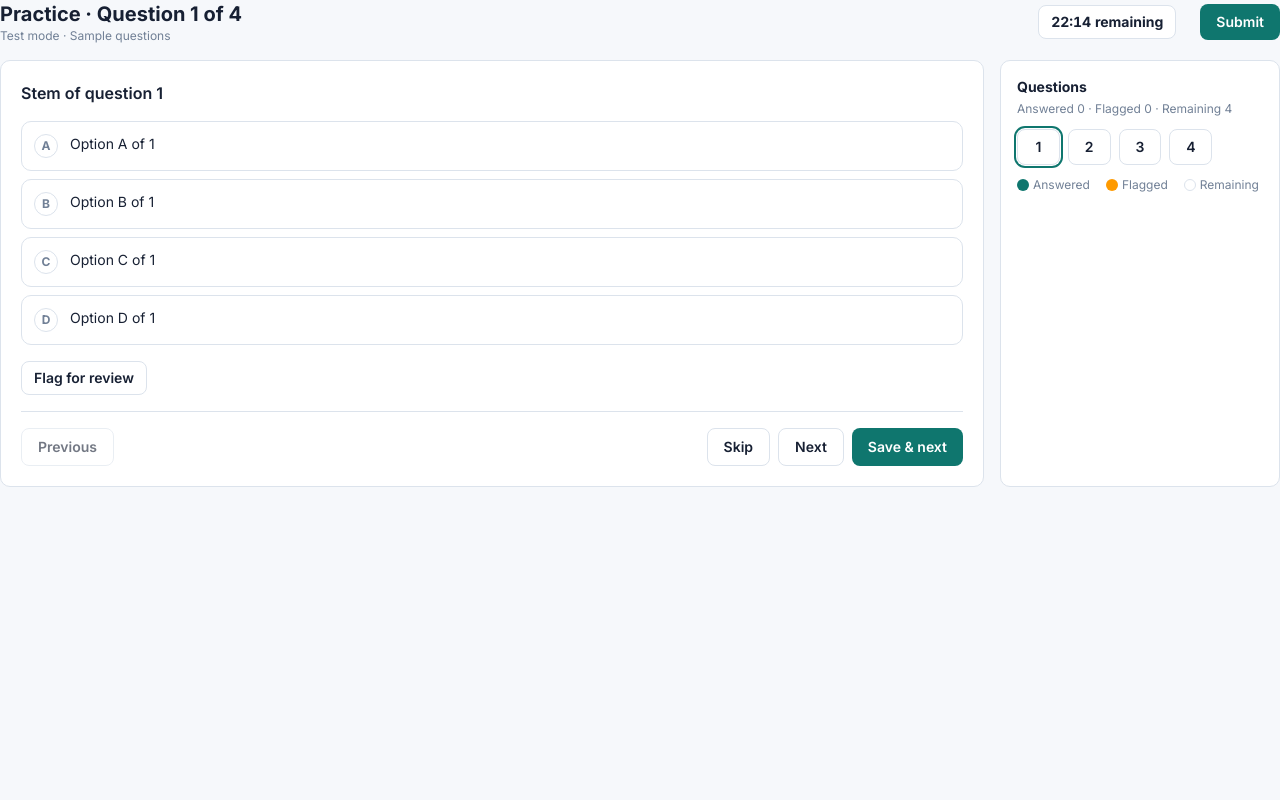
Test: Workspace submit › does not submit while saves keep failing, and says why
Press a
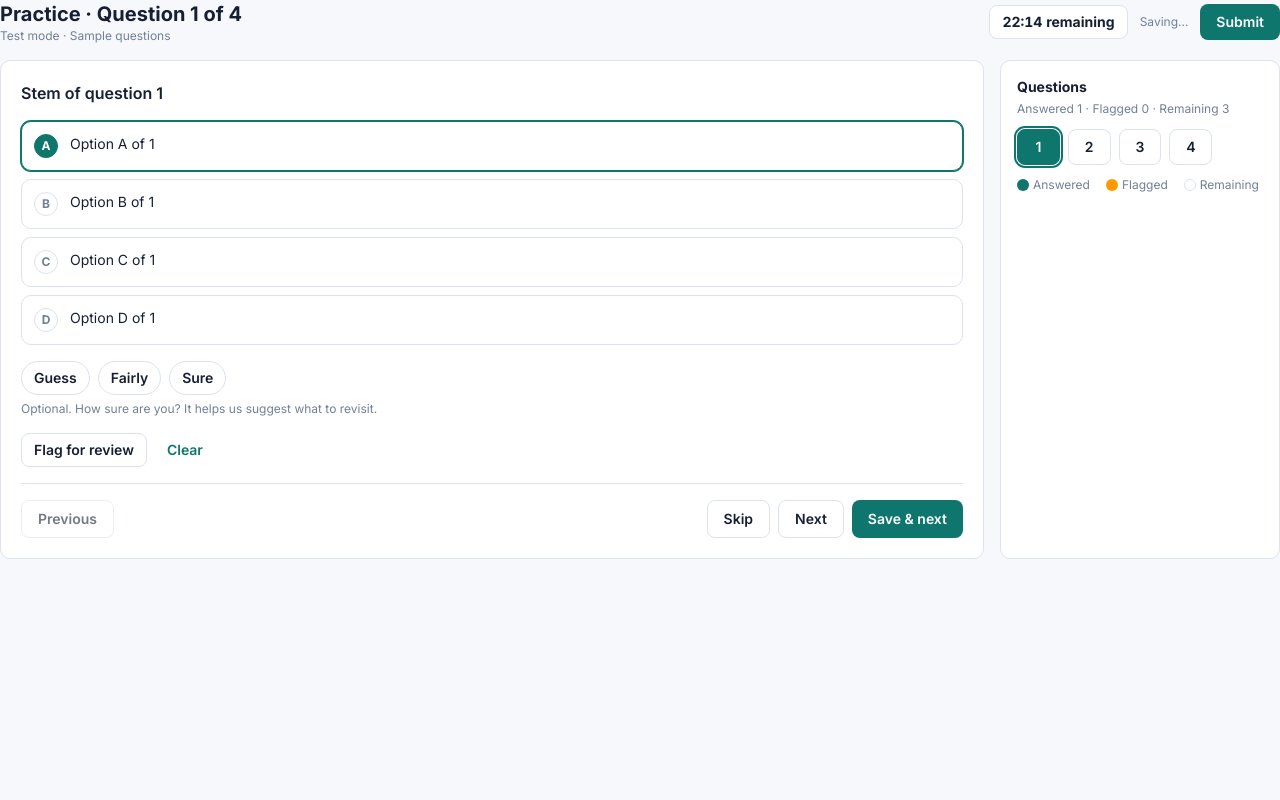
Click the button "Submit": (1240, 22) [1200, 4, 1279, 40]
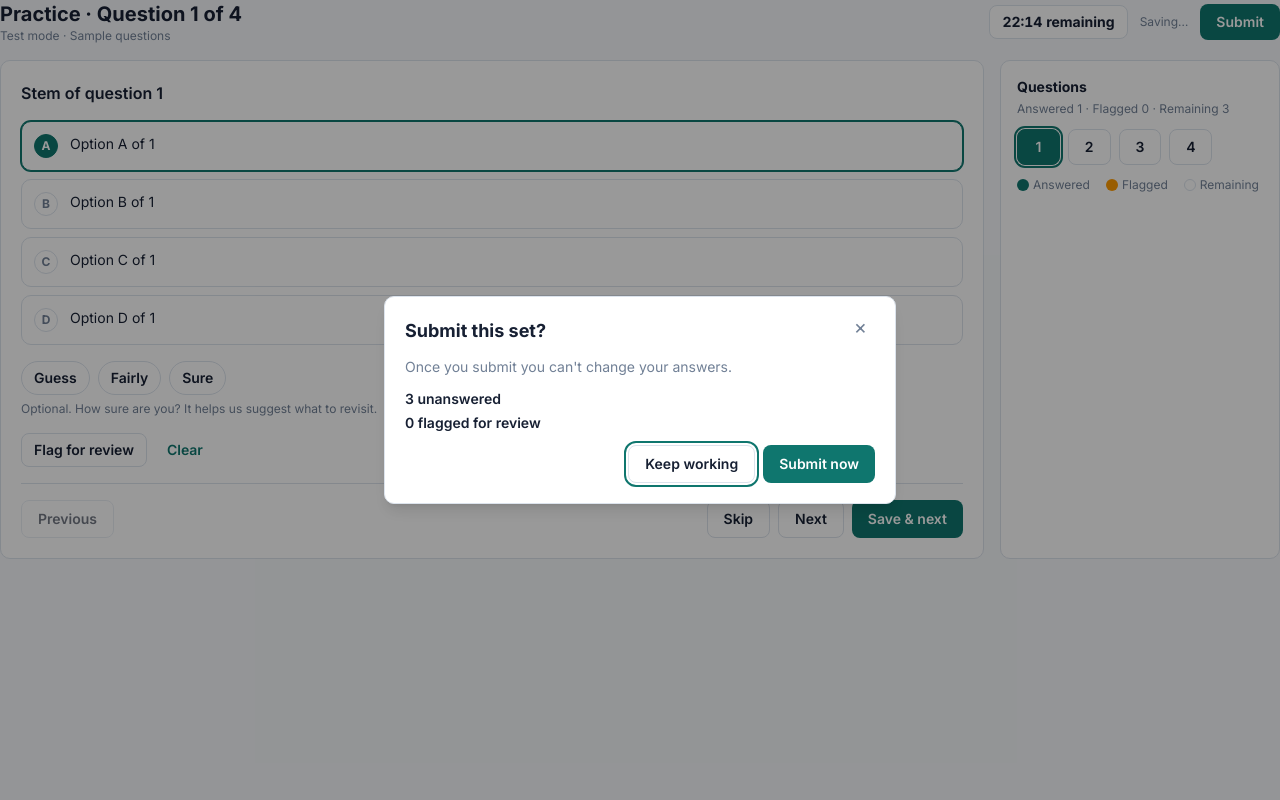
Click the button "Submit now": (819, 464) [763, 445, 875, 483]
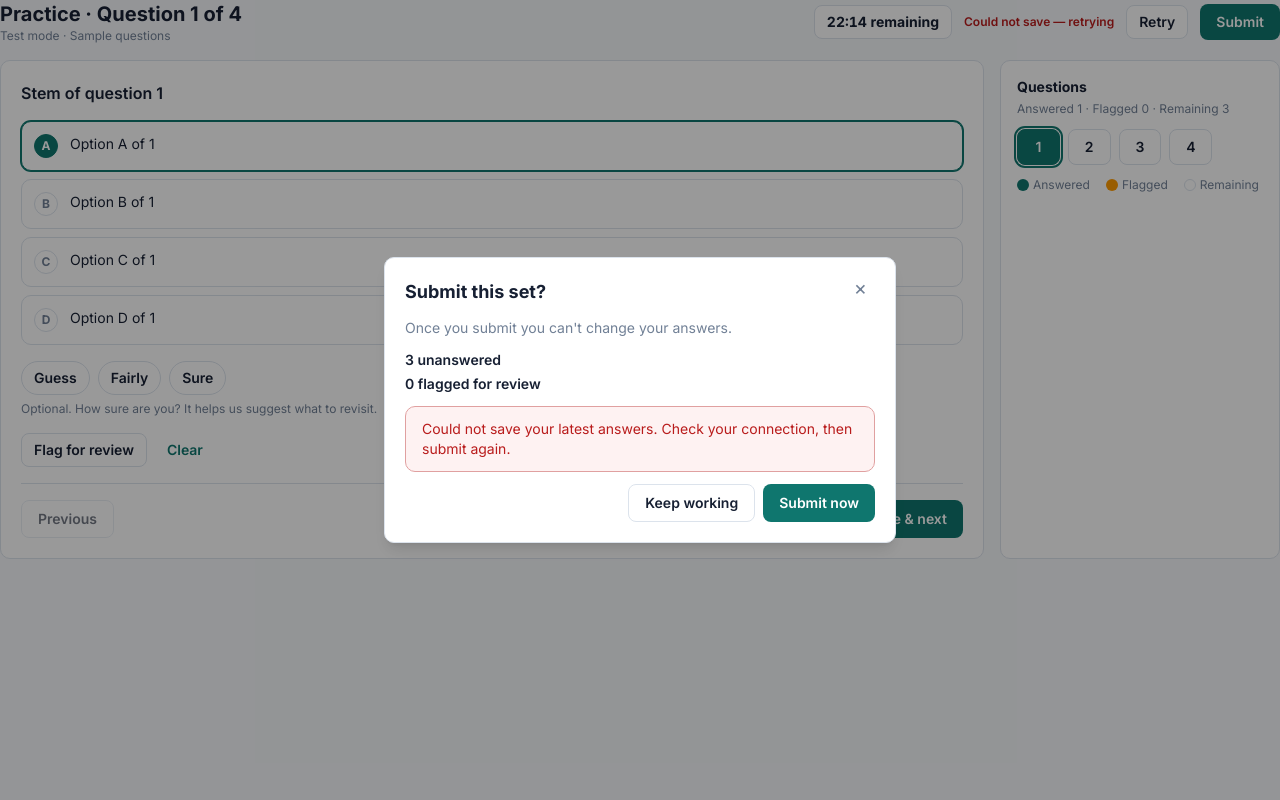
Check: the button "Submit now" is enabled, box [763, 484, 875, 522]
Check: the message shows "Could not save", box [422, 420, 852, 457]
